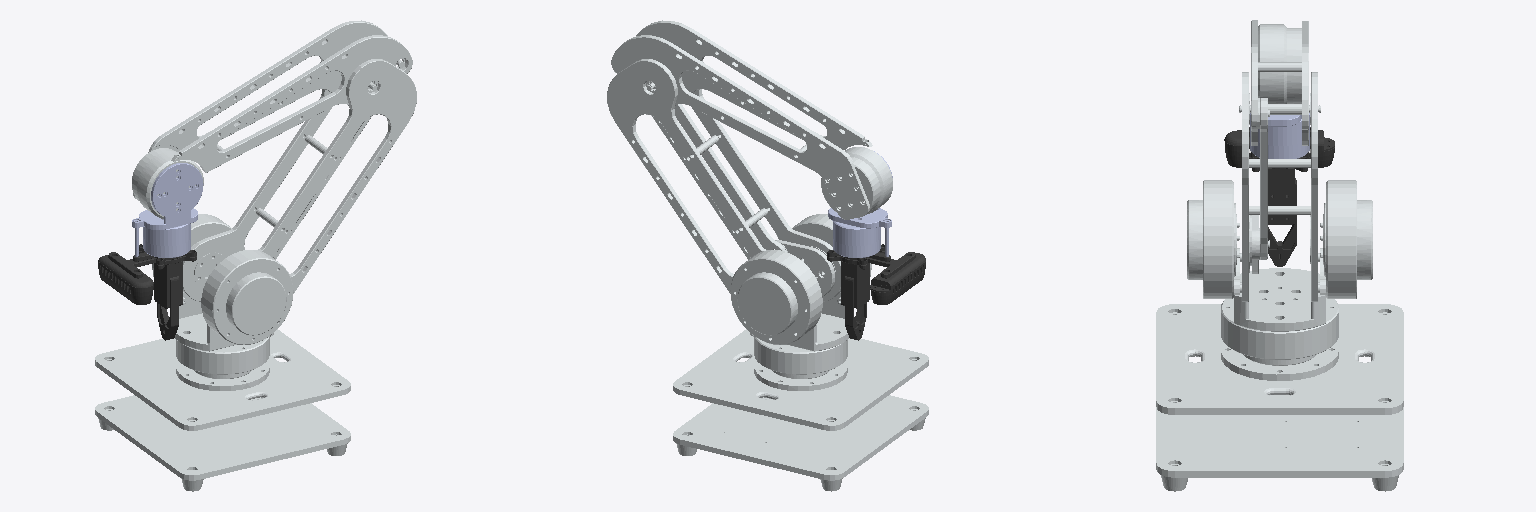
URDF robot description (robot_model):
<?xml version="1.0" encoding="utf-8" ?>
<!-- This URDF was automatically created by SolidWorks to URDF Exporter! Originally created by [author] ([email redacted]) 
     Commit Version: 1.6.0-1-g15f4949  Build Version: 1.6.7594.29634
     For more information, please see http://wiki.ros.org/sw_urdf_exporter -->
<robot name="robot_model">
    <link name="world"/>

	<joint name="fixed" type="fixed">
 		 <parent link="world"/>
		 <child link="base_link"/>
	</joint>
    <link name="base_link">
        
<inertial>
            <origin xyz="-0.000131636297794613 7.02596914331499E-06 0.0338094687504245" rpy="0 0 0" />
            <mass value="1.66666556846865" />
            <inertia ixx="0.00437827187549648" ixy="2.14594480928234E-07" ixz="-2.49805098024731E-07" iyy="0.00439499346492318" iyz="3.35617230888551E-11" izz="0.00870904082678681" />
        </inertial>

        <visual>
            <origin xyz="0 0 0" rpy="0 0 0" />
            <geometry>
                <mesh filename="package://robot_model/meshes/base_link.STL" />
            </geometry>
            <material name="">
                <color rgba="0.898039215686275 0.92156862745098 0.929411764705882 1" />
            </material>
        </visual>
        <collision>
            <origin xyz="0 0 0" rpy="0 0 0" />
            <geometry>
                <mesh filename="package://robot_model/meshes/base_link.STL" />
            </geometry>
        </collision>
    </link>
    <link name="link0">
        
<inertial>
            <origin xyz="0.000363629284852396 -8.01265831462672E-10 0.0457448426539982" rpy="0 0 0" />
            <mass value="0.666445201573647" />
            <inertia ixx="0.000412550019033174" ixy="-1.68900279961288E-11" ixz="-2.32575027080551E-06" iyy="0.00062372122843286" iyz="3.05398155355703E-12" izz="0.000553779193680589" />
        </inertial>

        <visual>
            <origin xyz="0 0 0" rpy="0 0 0" />
            <geometry>
                <mesh filename="package://robot_model/meshes/link0.STL" />
            </geometry>
            <material name="">
                <color rgba="0.898039215686275 0.92156862745098 0.929411764705882 1" />
            </material>
        </visual>
        <collision>
            <origin xyz="0 0 0" rpy="0 0 0" />
            <geometry>
                <mesh filename="package://robot_model/meshes/link0.STL" />
            </geometry>
        </collision>
    </link>
    <joint name="joint0" type="revolute">
        <origin xyz="0 1.13891484690432E-05 0.0984999999999997" rpy="0 0 0" />
        <parent link="base_link" />
        <child link="link0" />
        <axis xyz="0 0 1" />
        <limit lower="-1.57" upper="1.57" effort="100" velocity="4.71" />
    </joint>
    <link name="link1">
        
<inertial>
            <origin xyz="0.110344757740114 -0.0155985786176479 0.00660482093940962" rpy="0 0 0" />
            <mass value="0.288278803730323" />
            <inertia ixx="0.000125606334117149" ixy="2.53496493533052E-05" ixz="1.08830488413022E-06" iyy="0.00208095895946204" iyz="-5.26803978870406E-07" izz="0.00220149060357264" />
        </inertial>

        <visual>
            <origin xyz="0 0 0" rpy="0 0 0" />
            <geometry>
                <mesh filename="package://robot_model/meshes/link1.STL" />
            </geometry>
            <material name="">
                <color rgba="0.898039215686275 0.92156862745098 0.929411764705882 1" />
            </material>
        </visual>
        <collision>
            <origin xyz="0 0 0" rpy="0 0 0" />
            <geometry>
                <mesh filename="package://robot_model/meshes/link1.STL" />
            </geometry>
        </collision>
    </link>
    <joint name="joint1" type="revolute">
        <origin xyz="0 0 0.0615000000000387" rpy="1.5707963267949 -0.872664625997169 0" />
        <parent link="link0" />
        <child link="link1" />
        <axis xyz="0 0 -1" />
        <limit lower="-1.57" upper="0" effort="100" velocity="4.71" />
    </joint>
    <link name="link2">
        
<inertial>
            <origin xyz="0.141071851982991 -0.00767566722177665 0.000783713211009396" rpy="0 0 0" />
            <mass value="0.284369824866304" />
            <inertia ixx="0.00010683278891044" ixy="1.81184652662601E-05" ixz="-1.07545193212654E-05" iyy="0.00104342416774835" iyz="-2.27065914728887E-06" izz="0.0011056018945833" />
        </inertial>

        <visual>
            <origin xyz="0 0 0" rpy="0 0 0" />
            <geometry>
                <mesh filename="package://robot_model/meshes/link2.STL" />
            </geometry>
            <material name="">
                <color rgba="0.898039215686275 0.92156862745098 0.929411764705882 1" />
            </material>
        </visual>
        <collision>
            <origin xyz="0 0 0" rpy="0 0 0" />
            <geometry>
                <mesh filename="package://robot_model/meshes/link2.STL" />
            </geometry>
        </collision>
    </link>
    <joint name="joint2" type="revolute">
        <origin xyz="0.249999999999947 0 0" rpy="-0.0426463239013774 0.0126960393145572 2.55810516514623" />
        <parent link="link1" />
        <child link="link2" />
        <axis xyz="-0.0126956982394545 -0.0426299622216388 0.999010262993927" />
        <limit lower="-1.57" upper="0" effort="100" velocity="4.71" />
    </joint>
    <link name="link3">
        
<inertial>
            <origin xyz="-0.00205209217931762 -0.0472393303562962 0.00584737011822278" rpy="0 0 0" />
            <mass value="0.0930254450193935" />
            <inertia ixx="2.62720050229778E-05" ixy="-1.96866575858347E-07" ixz="-1.28268168149755E-07" iyy="2.89394359107394E-05" iyz="-3.86022747893895E-06" izz="2.9072487581479E-05" />
        </inertial>

        <visual>
            <origin xyz="0 0 0" rpy="0 0 0" />
            <geometry>
                <mesh filename="package://robot_model/meshes/link3.STL" />
            </geometry>
            <material name="">
                <color rgba="0.792156862745098 0.819607843137255 0.933333333333333 1" />
            </material>
        </visual>
        <collision>
            <origin xyz="0 0 0" rpy="0 0 0" />
            <geometry>
                <mesh filename="package://robot_model/meshes/link3.STL" />
            </geometry>
        </collision>
    </link>
    <joint name="joint3" type="revolute">
        <origin xyz="0.2363 0 0" rpy="-0.044495 0 2.8521" />
        <parent link="link2" />
        <child link="link3" />
        <axis xyz="0 0 1" />
        <limit lower="-1.57" upper="1.57" effort="100" velocity="4.71" />
    </joint>
    <link name="link4">
        
<inertial>
            <origin xyz="-0.0116593849682437 -0.000312358319448425 -0.0419154123769662" rpy="0 0 0" />
            <mass value="0.103368342191545" />
            <inertia ixx="3.40939528292563E-05" ixy="-1.33662834284005E-09" ixz="6.92160848237382E-08" iyy="2.51079263870249E-05" iyz="1.48640433667129E-07" izz="2.95023857668393E-05" />
        </inertial>

        <visual>
            <origin xyz="0 0 0" rpy="0 0 0" />
            <geometry>
                <mesh filename="package://robot_model/meshes/link4.STL" />
            </geometry>
            <material name="">
                <color rgba="0.298039215686275 0.298039215686275 0.298039215686275 1" />
            </material>
        </visual>
        <collision>
            <origin xyz="0 0 0" rpy="0 0 0" />
            <geometry>
                <mesh filename="package://robot_model/meshes/link4.STL" />
            </geometry>
        </collision>
    </link>
    <joint name="joint4" type="revolute">
        <origin xyz="0 -0.06 0.003" rpy="-1.5708 0 0" />
        <parent link="link3" />
        <child link="link4" />
        <axis xyz="0 0 -1" />
        <limit lower="-3.14" upper="3.14" effort="100" velocity="4.71" />
    </joint>
    <link name="link5">
        
<inertial>
            <origin xyz="0.00474999999999998 -0.00100000000000211 0.0288668314717897" rpy="0 0 0" />
            <mass value="0.019352363175795" />
            <inertia ixx="1.067099283993E-05" ixy="2.51356317742419E-22" ixz="3.69172823560365E-20" iyy="1.04430267545089E-05" iyz="3.36695596533583E-20" izz="5.11528560189935E-07" />
        </inertial>

        <visual>
            <origin xyz="0 0 0" rpy="0 0 0" />
            <geometry>
                <mesh filename="package://robot_model/meshes/link5.STL" />
            </geometry>
            <material name="">
                <color rgba="0.298039215686275 0.298039215686275 0.298039215686275 1" />
            </material>
        </visual>
        <collision>
            <origin xyz="0 0 0" rpy="0 0 0" />
            <geometry>
                <mesh filename="package://robot_model/meshes/link5.STL" />
            </geometry>
        </collision>
    </link>
    <joint name="joint5" type="fixed">
        <origin xyz="-0.00355 0.001 -0.11365" rpy="0 0 0" />
        <parent link="link4" />
        <child link="link5" />
        <axis xyz="0 0 0" />
    </joint>
    <link name="camera_link">
        
<inertial>
            <origin xyz="0.00104272897382057 0.00414306828907618 0.012121995721127" rpy="0 0 0" />
            <mass value="0.0100342082429161" />
            <inertia ixx="6.54105953770491E-06" ixy="-1.08039447785454E-07" ixz="-9.3597651292331E-09" iyy="4.38200169313778E-07" iyz="-2.70958970491522E-09" izz="6.26627356918872E-06" />
        </inertial>

        <visual>
            <origin xyz="0 0 0" rpy="0 0 0" />
            <geometry>
                <mesh filename="package://robot_model/meshes/camera_link.STL" />
            </geometry>
            <material name="">
                <color rgba="1 1 1 1" />
            </material>
        </visual>
        <collision>
            <origin xyz="0 0 0" rpy="0 0 0" />
            <geometry>
                <mesh filename="package://robot_model/meshes/camera_link.STL" />
            </geometry>
        </collision>
    </link>
    <joint name="camera_joint" type="fixed">
        <origin xyz="-0.0334500000000004 -0.001 0.0795962742299688" rpy="3.14159265358979 1.5707963267949 0" />
        <parent link="link5" />
        <child link="camera_link" />
        <axis xyz="0 0 0" />
    </joint>
    
<transmission name="trans_joint0">
        <type>transmission_interface/SimpleTransmission</type>
        <joint name="joint0">
            <hardwareInterface>hardware_interface/PositionJointInterface</hardwareInterface>
        </joint>
        <actuator name="joint0_motor">
            <hardwareInterface>hardware_interface/PositionJointInterface</hardwareInterface>
            <mechanicalReduction>1</mechanicalReduction>
        </actuator>
    </transmission>
    <transmission name="trans_joint1">
        <type>transmission_interface/SimpleTransmission</type>
        <joint name="joint1">
            <hardwareInterface>hardware_interface/PositionJointInterface</hardwareInterface>
        </joint>
        <actuator name="joint1_motor">
            <hardwareInterface>hardware_interface/PositionJointInterface</hardwareInterface>
            <mechanicalReduction>1</mechanicalReduction>
        </actuator>
    </transmission>
    <transmission name="trans_joint2">
        <type>transmission_interface/SimpleTransmission</type>
        <joint name="joint2">
            <hardwareInterface>hardware_interface/PositionJointInterface</hardwareInterface>
        </joint>
        <actuator name="joint2_motor">
            <hardwareInterface>hardware_interface/PositionJointInterface</hardwareInterface>
            <mechanicalReduction>1</mechanicalReduction>
        </actuator>
    </transmission>
    <transmission name="trans_joint3">
        <type>transmission_interface/SimpleTransmission</type>
        <joint name="joint3">
            <hardwareInterface>hardware_interface/PositionJointInterface</hardwareInterface>
        </joint>
        <actuator name="joint3_motor">
            <hardwareInterface>hardware_interface/PositionJointInterface</hardwareInterface>
            <mechanicalReduction>1</mechanicalReduction>
        </actuator>
    </transmission>
    <transmission name="trans_joint4">
        <type>transmission_interface/SimpleTransmission</type>
        <joint name="joint4">
            <hardwareInterface>hardware_interface/PositionJointInterface</hardwareInterface>
        </joint>
        <actuator name="joint4_motor">
            <hardwareInterface>hardware_interface/PositionJointInterface</hardwareInterface>
            <mechanicalReduction>1</mechanicalReduction>
        </actuator>
    </transmission>
    <gazebo>
        <plugin name="gazebo_ros_control" filename="libgazebo_ros_control.so">
            <robotNamespace>/</robotNamespace>
        </plugin>
    </gazebo>
</robot>

--- Facts derived from the render (not from the file) ---
The picture shows the robot from 3 angles, left to right: view 1: azimuth 30°, elevation 25°; view 2: azimuth 150°, elevation 25°; view 3: azimuth 270°, elevation 25°; orthographic projection.
Model robot_model with 9 links and 8 joints (5 revolute, 3 fixed), rooted at world, posed all joints at 0.
Links seen in each view (by area): view 1: base_link, link1, link2, link0, link3, link4, link5; view 2: base_link, link2, link1, link0, link4, link3, link5; view 3: base_link, link0, link1, link2, link4, link3, link5.
Boxes of the visible links, x1=… form: base_link: x1=95, y1=329, x2=350, y2=491; link1: x1=183, y1=58, x2=416, y2=301; link2: x1=132, y1=20, x2=412, y2=218; link0: x1=152, y1=214, x2=293, y2=351; link3: x1=132, y1=163, x2=203, y2=257; link4: x1=98, y1=244, x2=196, y2=308; link5: x1=157, y1=276, x2=178, y2=340; base_link: x1=673, y1=329, x2=928, y2=491; link2: x1=611, y1=20, x2=892, y2=219; link1: x1=607, y1=59, x2=840, y2=301; link0: x1=730, y1=214, x2=871, y2=351; link4: x1=827, y1=244, x2=925, y2=308; link3: x1=828, y1=151, x2=892, y2=257; link5: x1=845, y1=276, x2=866, y2=340; base_link: x1=1156, y1=298, x2=1403, y2=491; link0: x1=1187, y1=180, x2=1372, y2=331; link1: x1=1242, y1=72, x2=1317, y2=301; link2: x1=1239, y1=20, x2=1320, y2=145; link4: x1=1224, y1=127, x2=1334, y2=224; link3: x1=1250, y1=113, x2=1309, y2=158; link5: x1=1268, y1=178, x2=1296, y2=266.
Size in the robot's own frame: 0.339 by 0.2 by 0.4252 metres.
Meshes: 8 distinct files referenced, 8 mesh visuals loaded (8 binary STL).